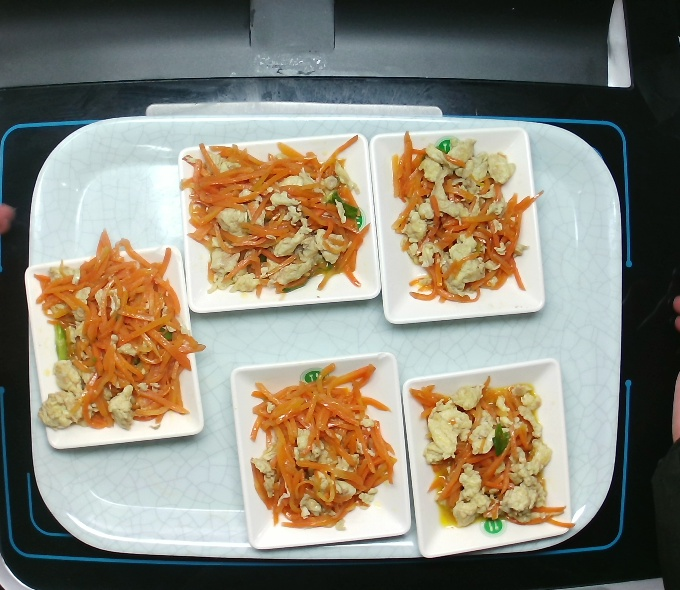wcq-HuLuoBoChaoDan: (42, 240, 195, 427), (181, 148, 374, 296), (388, 140, 533, 303), (246, 364, 391, 527), (422, 377, 567, 540)
